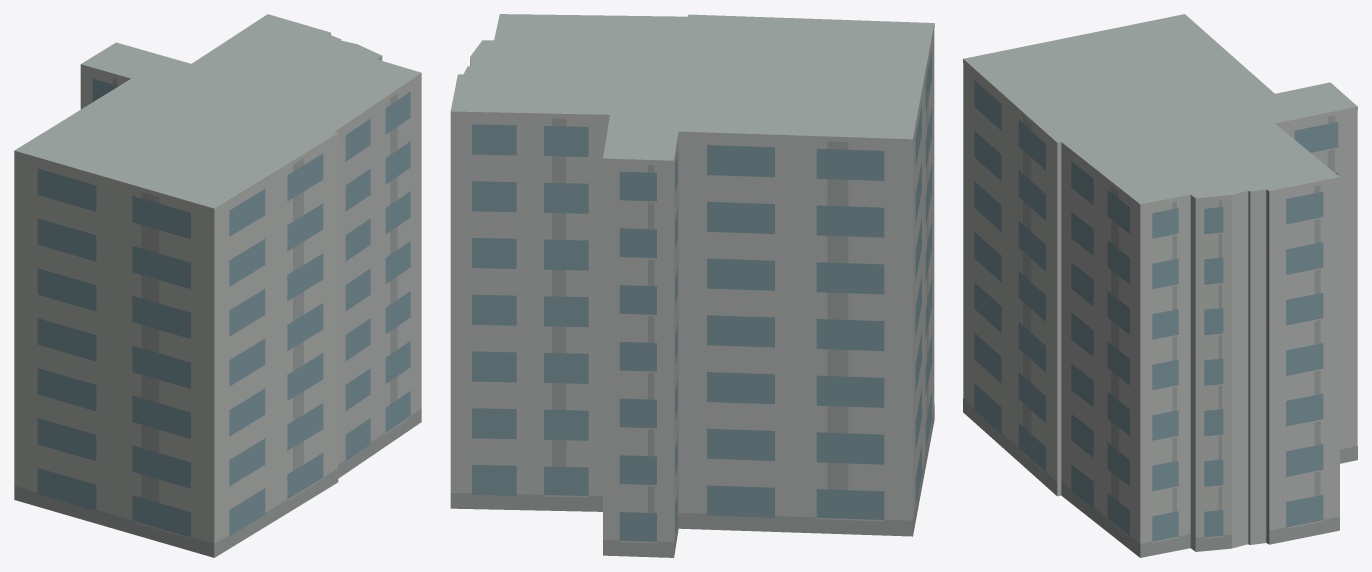
The model's file is survey-upis-32926542.glb.
The picture shows the model from 3 angles, left to right: view 1: azimuth 30°, elevation 25°; view 2: azimuth 150°, elevation 25°; view 3: azimuth 270°, elevation 25°; orthographic projection. The views are drawn at different scales.
Visible parts, largest first — view 1: survey-upis-32926542.tmp; view 2: survey-upis-32926542.tmp; view 3: survey-upis-32926542.tmp.
Part boxes in pixels (x1,y1,x2,y2): survey-upis-32926542.tmp: (14,14,421,557); survey-upis-32926542.tmp: (450,14,934,557); survey-upis-32926542.tmp: (963,14,1357,557).
Bounding box in the file's own units: 23.22 × 20.1 × 20.34.
